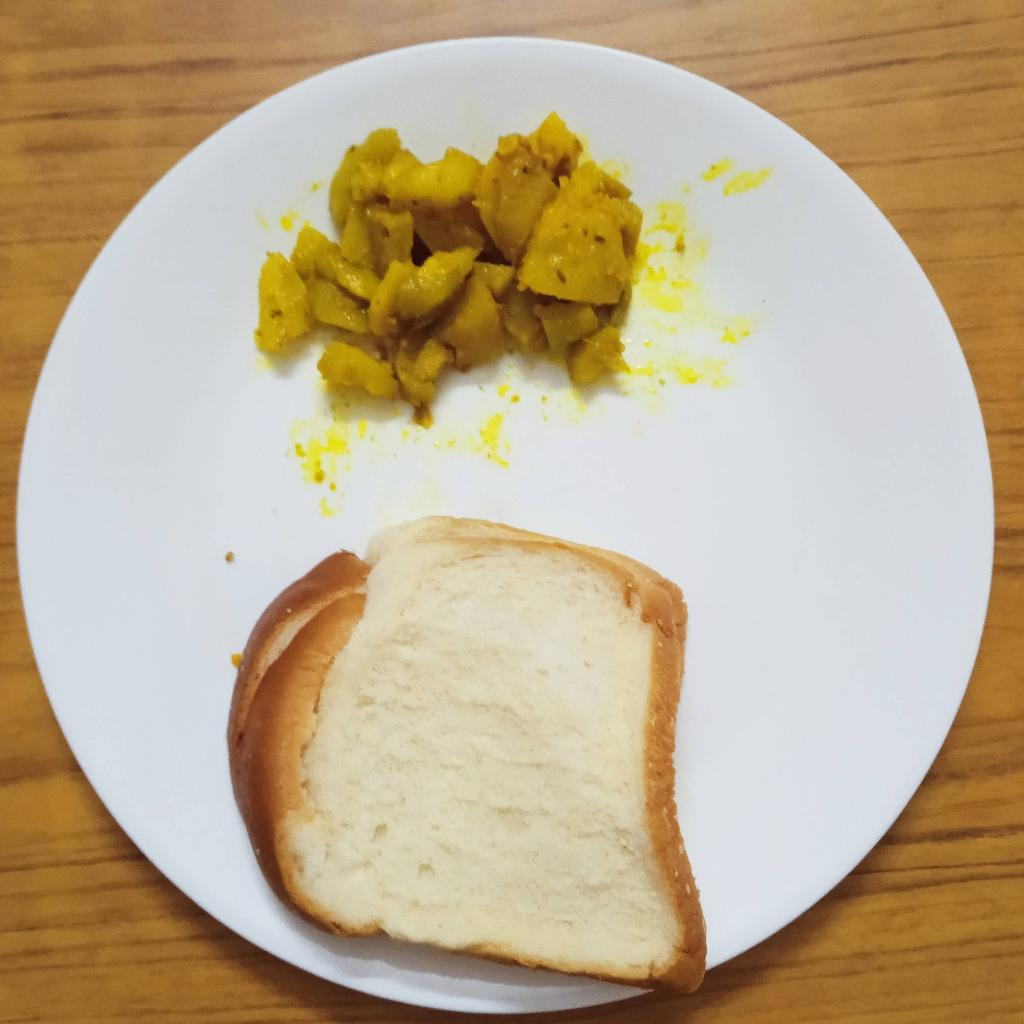bread: (221, 509, 709, 984)
vaji: (265, 115, 641, 408)
